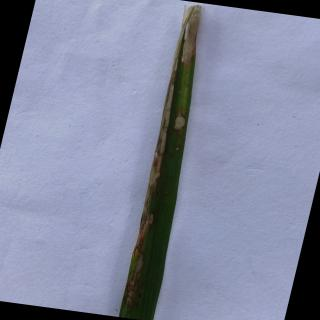Hawar-Daun: (124, 84, 177, 308), (178, 4, 202, 80), (172, 112, 187, 130)
